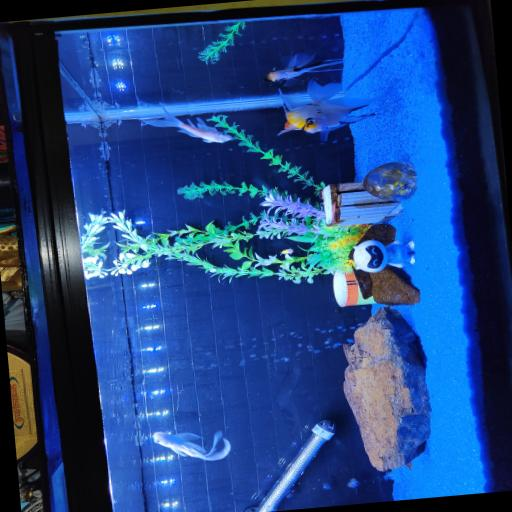Fish: (279, 80, 385, 141), (142, 109, 232, 143), (264, 53, 342, 86), (153, 432, 231, 460), (282, 248, 293, 254)
